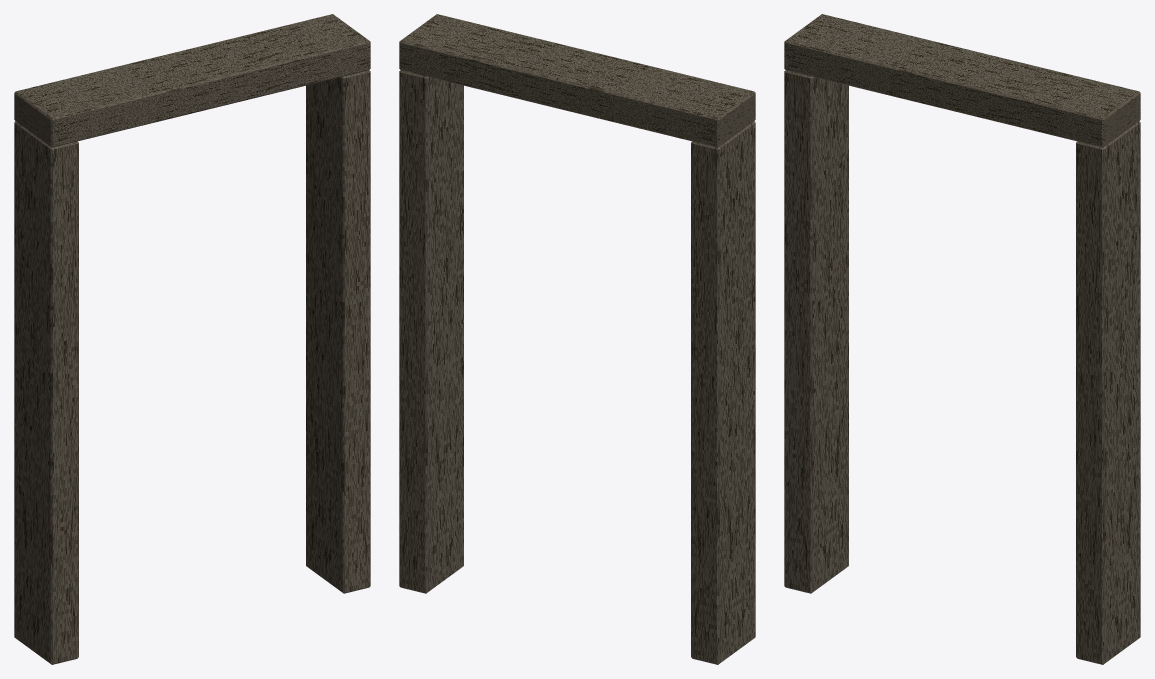
Rendered from doorframe.glb.
The picture shows the model from 3 angles, left to right: view 1: azimuth 30°, elevation 25°; view 2: azimuth 150°, elevation 25°; view 3: azimuth 330°, elevation 25°; orthographic projection.
Visible parts, largest first — view 1: Door_jamb, Door_jamb.001, Door_lintel; view 2: Door_jamb, Door_jamb.001, Door_lintel; view 3: Door_jamb.001, Door_jamb, Door_lintel.
Part boxes in pixels (x1=…): Door_jamb: x1=14, y1=121, x2=78, y2=664; Door_jamb.001: x1=306, y1=70, x2=370, y2=593; Door_lintel: x1=14, y1=14, x2=370, y2=147; Door_jamb: x1=691, y1=121, x2=755, y2=664; Door_jamb.001: x1=399, y1=70, x2=463, y2=593; Door_lintel: x1=399, y1=14, x2=755, y2=147; Door_jamb.001: x1=1076, y1=121, x2=1140, y2=664; Door_jamb: x1=784, y1=70, x2=848, y2=593; Door_lintel: x1=784, y1=14, x2=1140, y2=147.
Bounding box in the file's own units: 1.36 × 2.22 × 0.28.
Materials: 1 (1 with a texture image).
